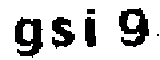9: (112, 7, 150, 51)
g: (10, 15, 45, 60)
i: (79, 6, 105, 54)
s: (48, 15, 75, 50)
